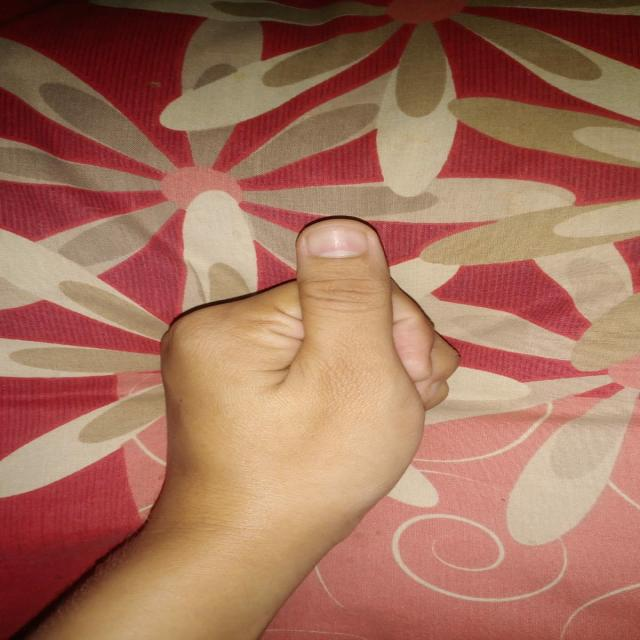sehat: (303, 226, 370, 257)
